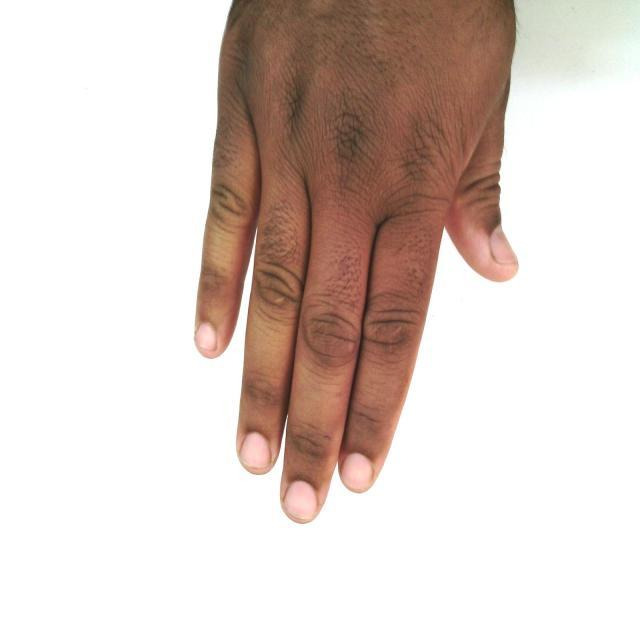Fingernail: (285, 481, 317, 521), (342, 455, 372, 491), (242, 434, 271, 469), (491, 228, 518, 265), (197, 324, 217, 351)
